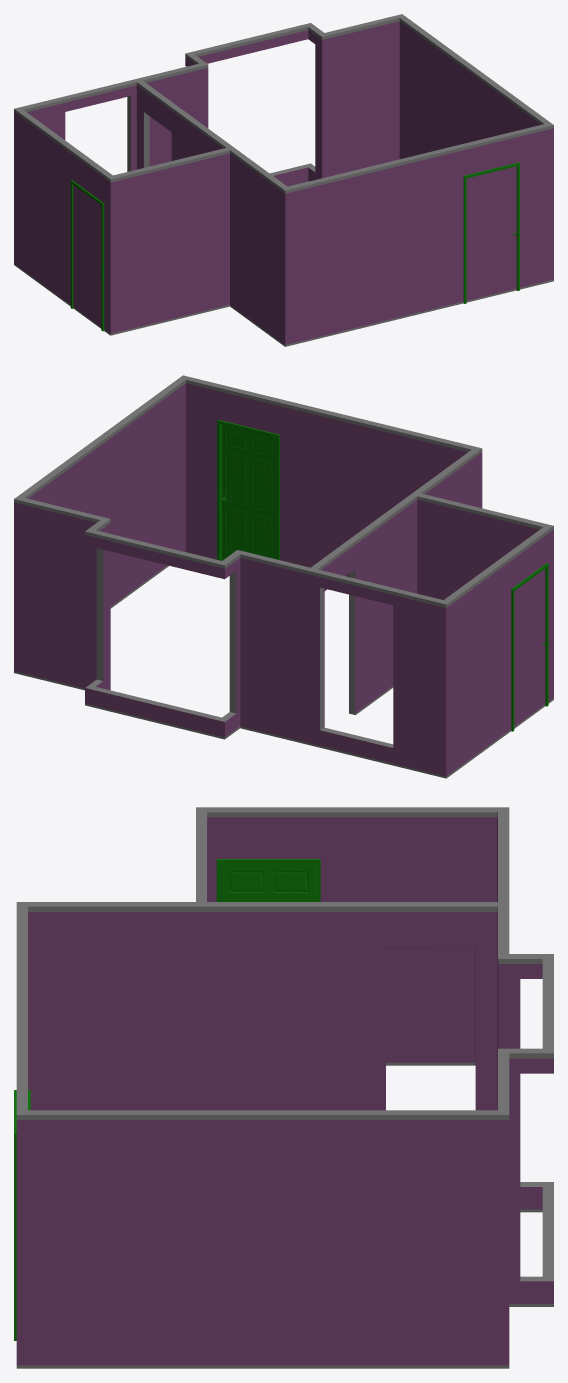
Rendered from FloorPlan211.fbx.
The picture shows the model from 3 angles, top to bottom: view 1: azimuth 30°, elevation 25°; view 2: azimuth 150°, elevation 25°; view 3: azimuth 270°, elevation 25°; orthographic projection. The views are drawn at different scales.
Visible parts, largest first — view 1: StandardWallSize, StandardDoorFrame1, StandardDoorFrame1 (2); view 2: StandardWallSize, StandardDoor1, StandardDoorFrame1, StandardDoorFrame1 (2); view 3: StandardWallSize, StandardDoor1 (2), StandardDoorFrame1 (2), StandardDoorFrame1.
Part boxes in pixels (x1=…): StandardWallSize: x1=14, y1=14, x2=553, y2=346; StandardDoorFrame1: x1=463, y1=162, x2=519, y2=303; StandardDoorFrame1 (2): x1=70, y1=180, x2=104, y2=331; StandardWallSize: x1=14, y1=375, x2=553, y2=778; StandardDoor1: x1=222, y1=424, x2=276, y2=560; StandardDoorFrame1: x1=217, y1=419, x2=279, y2=560; StandardDoorFrame1 (2): x1=511, y1=563, x2=548, y2=731; StandardWallSize: x1=16, y1=807, x2=553, y2=1368; StandardDoor1 (2): x1=221, y1=864, x2=316, y2=901; StandardDoorFrame1 (2): x1=216, y1=859, x2=320, y2=901; StandardDoorFrame1: x1=14, y1=1090, x2=30, y2=1340.
Size of the model in its own units: 653 by 250 by 483.
